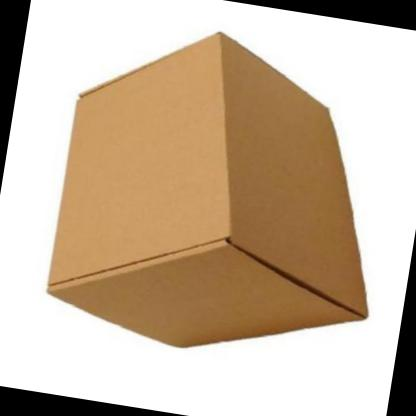box: (37, 9, 410, 382)
